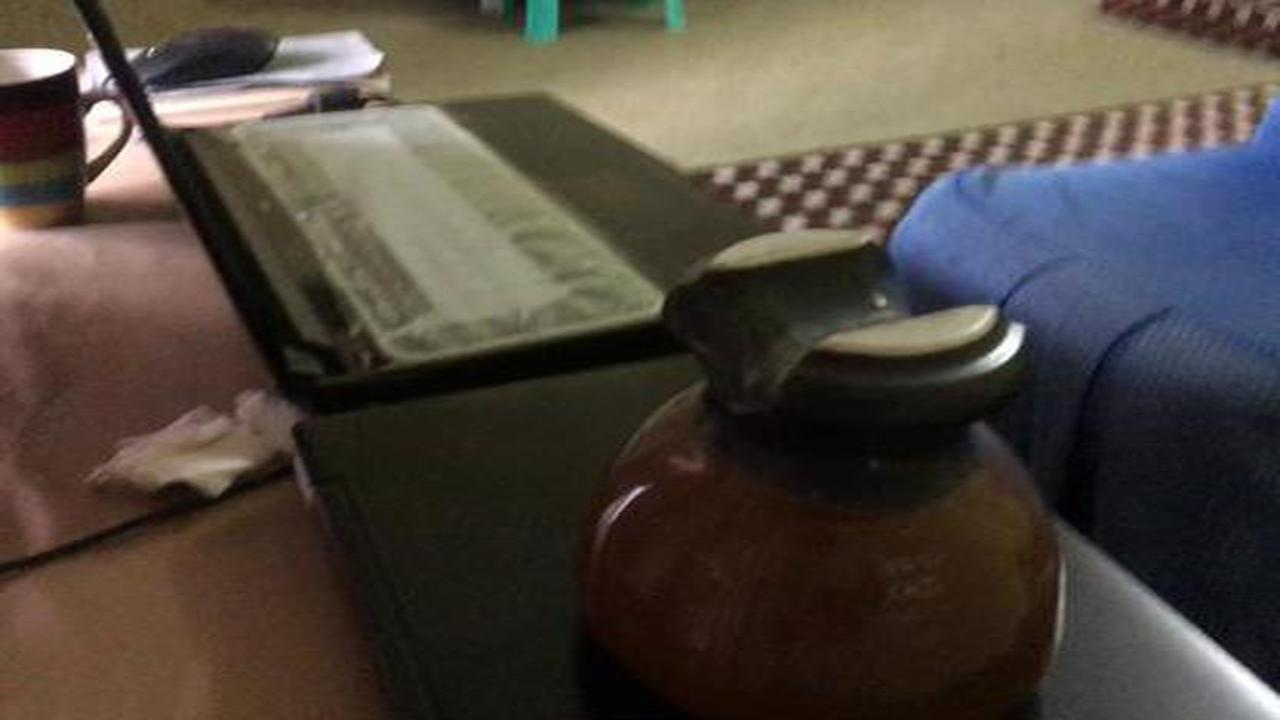insulator_pin: (570, 214, 1077, 720)
